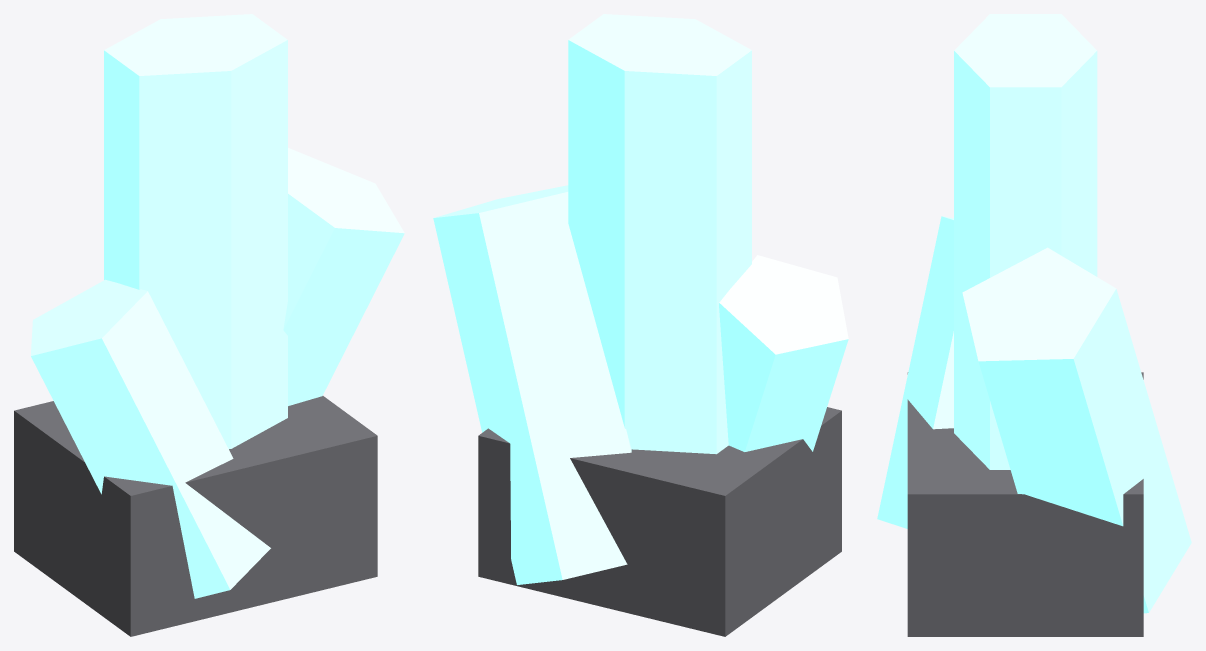
File: BioluminescentShard.glb
3 renders of one model, left to right at view 1: azimuth 30°, elevation 25°; view 2: azimuth 150°, elevation 25°; view 3: azimuth 270°, elevation 25°, orthographic.
Parts seen in each view (by area): view 1: BioluminescentShard; view 2: BioluminescentShard; view 3: BioluminescentShard.
Boxes of the visible parts, x1,y1,x2,y2 form: BioluminescentShard: (14,14,404,636); BioluminescentShard: (433,14,848,636); BioluminescentShard: (877,14,1191,636).
Size of the model in its own units: 1.86 by 2.47 by 1.32.
